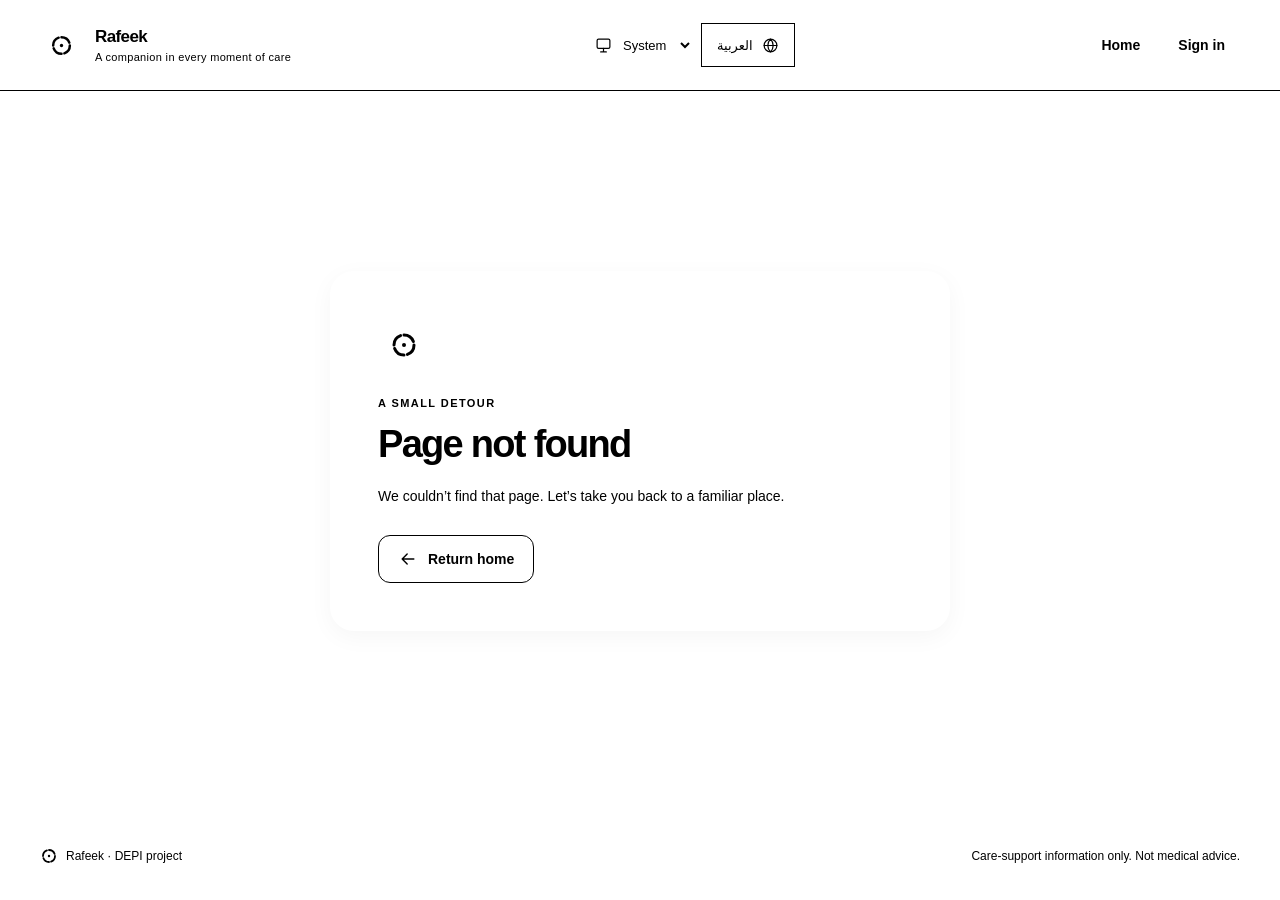
Test: application foundation › returns to the landing page from an unknown route
The width and height of the screenshot is (1280, 900).
Check: the heading "Page not found" is shown, box [378, 424, 631, 466]
Click the link "Return home".
click(456, 559)  # box [378, 535, 534, 583]
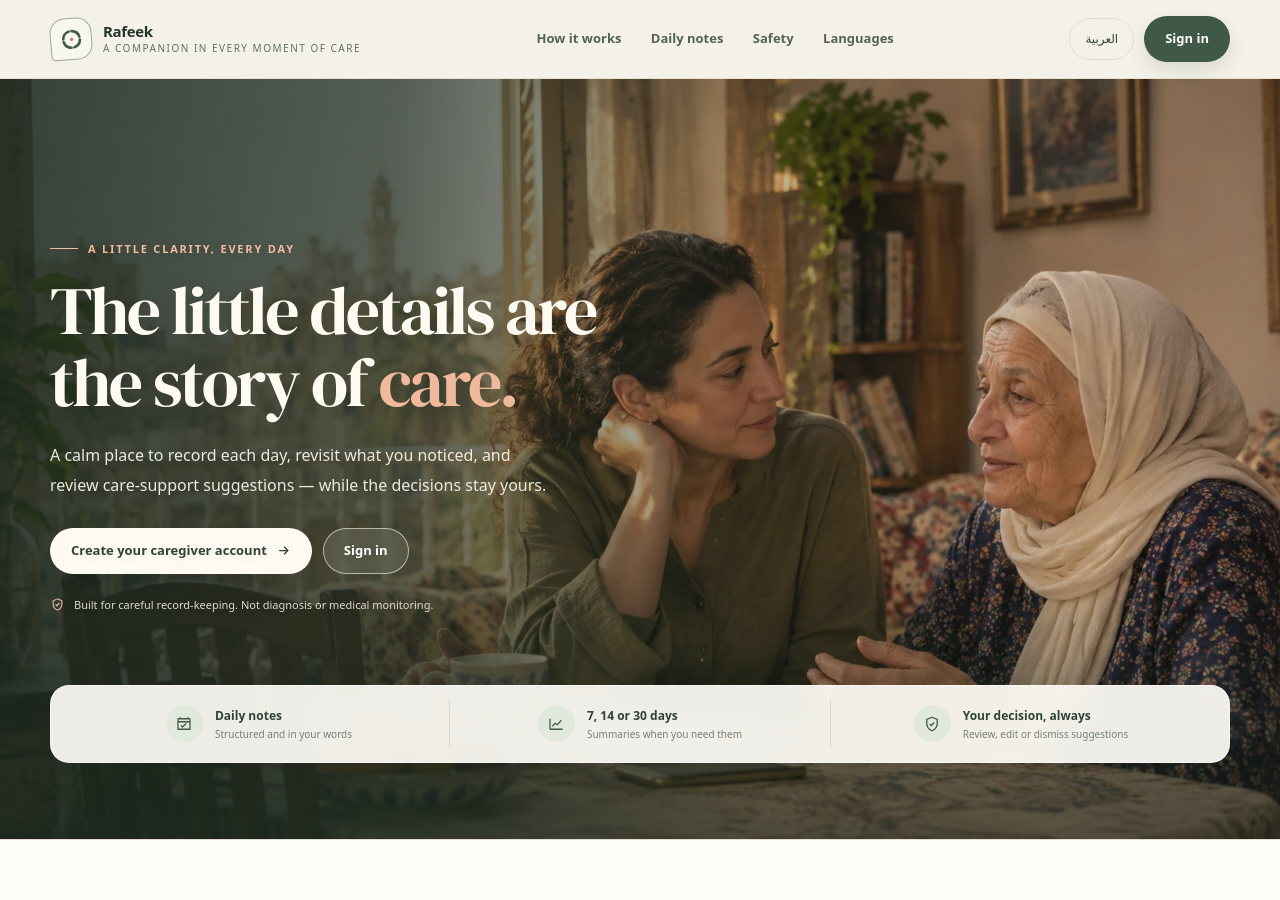
Check: the heading "The little details are the story of care." is shown, box [50, 275, 640, 419]
